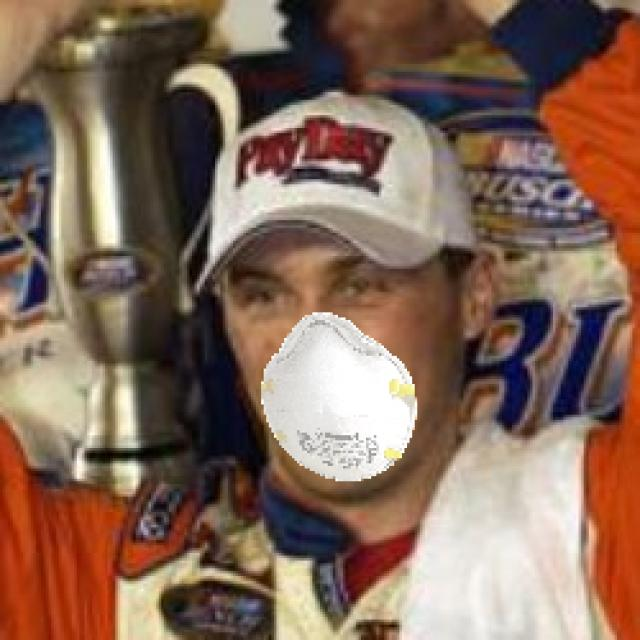mask: (244, 318, 448, 496)
